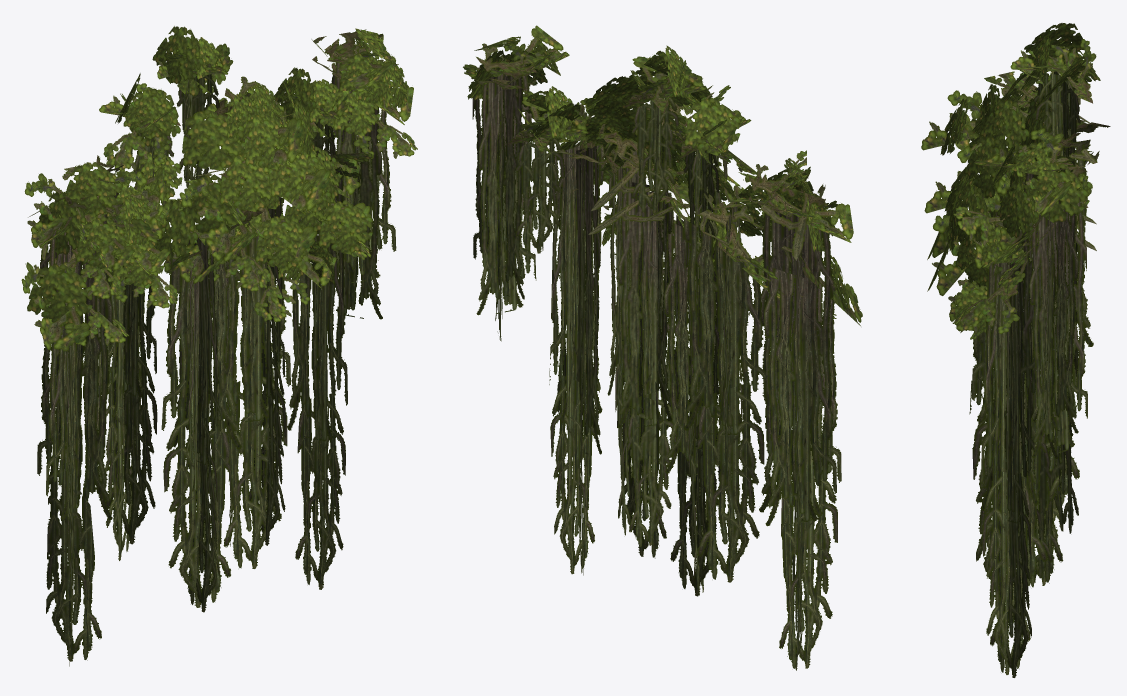
File: Grass6.fbx
3 renders of one model, left to right at view 1: azimuth 30°, elevation 25°; view 2: azimuth 150°, elevation 25°; view 3: azimuth 270°, elevation 25°, orthographic. The views are drawn at different scales.
Parts seen in each view (by area): view 1: LV_Gnollando_Foliage_Vine_PM_NWCNIK; view 2: LV_Gnollando_Foliage_Vine_PM_NWCNIK; view 3: LV_Gnollando_Foliage_Vine_PM_NWCNIK.
Part boxes in pixels (x1,y1,x2,y2): LV_Gnollando_Foliage_Vine_PM_NWCNIK: [21, 26, 417, 666]; LV_Gnollando_Foliage_Vine_PM_NWCNIK: [463, 25, 862, 670]; LV_Gnollando_Foliage_Vine_PM_NWCNIK: [921, 23, 1110, 677].
Size of the model in its own units: 1.44 by 2.03 by 0.5932.
Materials: 1 (1 with a texture image).
